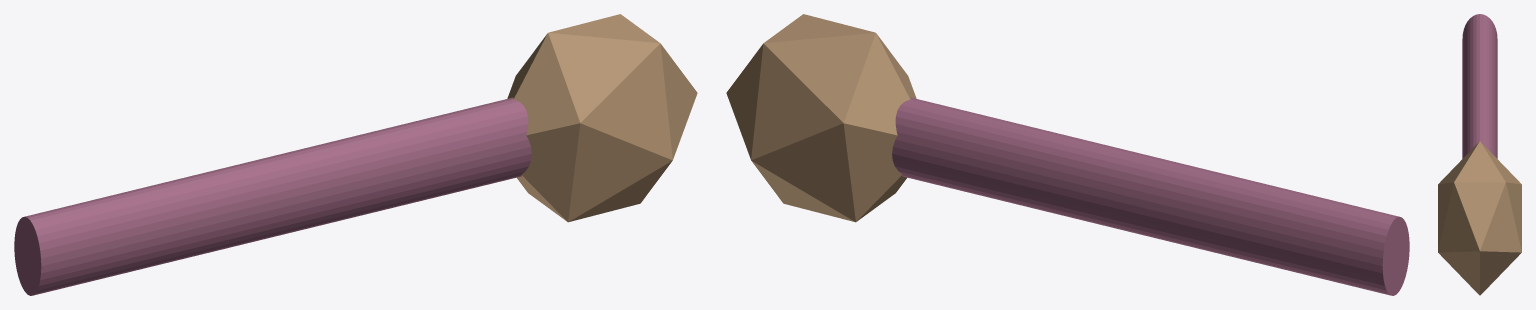
File: blockLever.obj
3 renders of one model, left to right at view 1: azimuth 30°, elevation 25°; view 2: azimuth 150°, elevation 25°; view 3: azimuth 270°, elevation 25°, orthographic. The views are drawn at different scales.
Parts seen in each view (by area): view 1: 円柱, 円柱.001; view 2: 円柱, 円柱.001; view 3: 円柱.001, 円柱.
Boxes of the visible parts, <box> form: 円柱: <box>14,97,531,295</box>; 円柱.001: <box>507,14,697,222</box>; 円柱: <box>892,97,1409,295</box>; 円柱.001: <box>726,14,916,222</box>; 円柱.001: <box>1438,141,1521,295</box>; 円柱: <box>1462,14,1497,158</box>.
Bounding box in the file's own units: 0.9682 × 0.2673 × 0.1619.
Materials: 1 (1 with a texture image).
